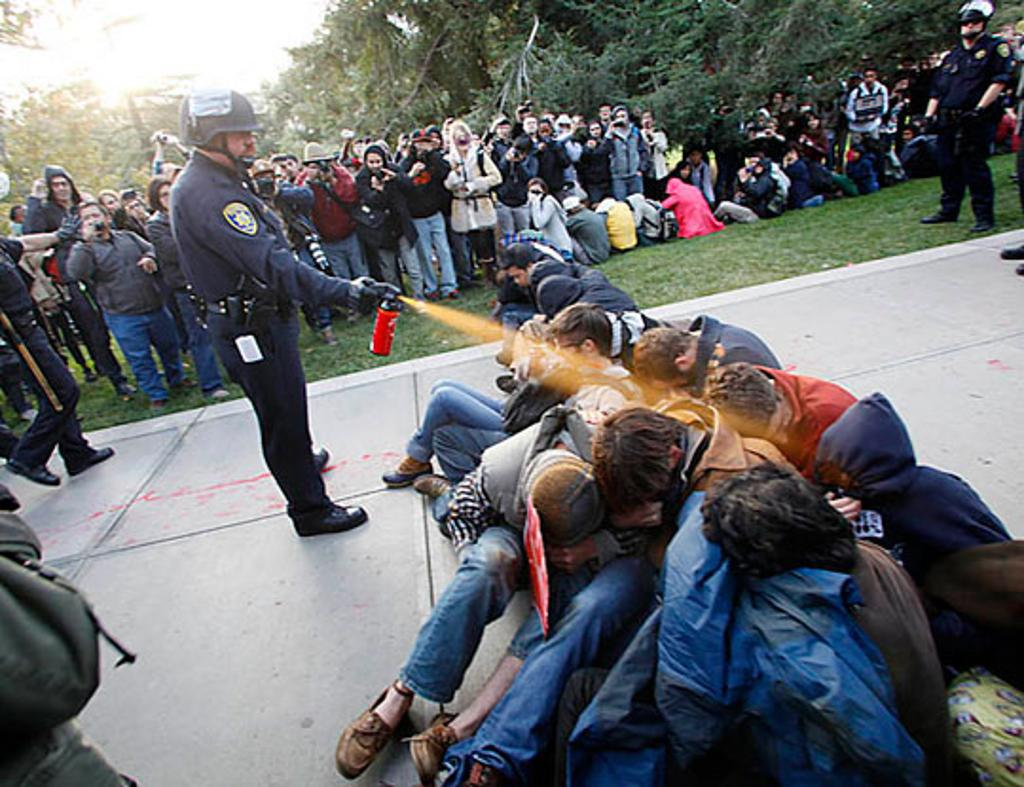face: (651, 370, 699, 397), (768, 398, 792, 449), (223, 130, 254, 168), (554, 335, 585, 372), (81, 205, 106, 236), (508, 266, 531, 288), (961, 19, 984, 40), (50, 177, 71, 200), (156, 186, 176, 210), (101, 196, 117, 219), (367, 154, 382, 173), (129, 201, 143, 219), (258, 173, 274, 188), (275, 161, 287, 181), (285, 159, 297, 178), (15, 207, 28, 224), (514, 146, 527, 162), (1000, 28, 1014, 42), (313, 160, 327, 174), (530, 185, 543, 199), (430, 132, 441, 148), (590, 124, 602, 138), (600, 106, 611, 120), (455, 137, 469, 148), (642, 113, 652, 127), (540, 124, 550, 138), (415, 142, 427, 153), (526, 119, 536, 132), (681, 165, 690, 179), (865, 72, 876, 83), (559, 124, 570, 135), (617, 114, 627, 126), (500, 125, 510, 137), (902, 131, 912, 142), (691, 151, 701, 162), (757, 114, 766, 126), (774, 94, 783, 104), (809, 118, 818, 128), (903, 62, 912, 72), (788, 149, 797, 159), (756, 165, 763, 174)
